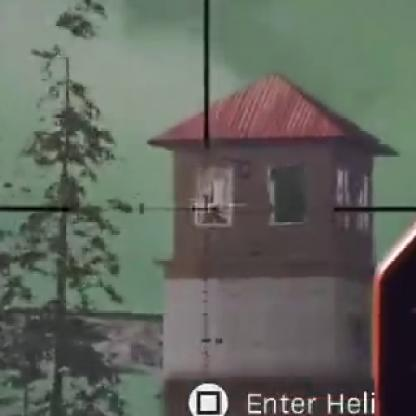enemy: (203, 201, 226, 225)
